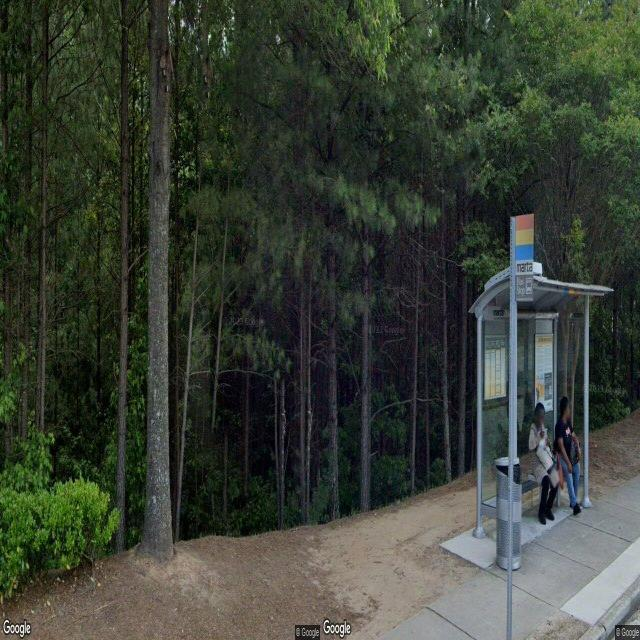seating: (529, 462, 571, 508)
shelter: (466, 267, 614, 543)
trash_can: (496, 456, 522, 570)
